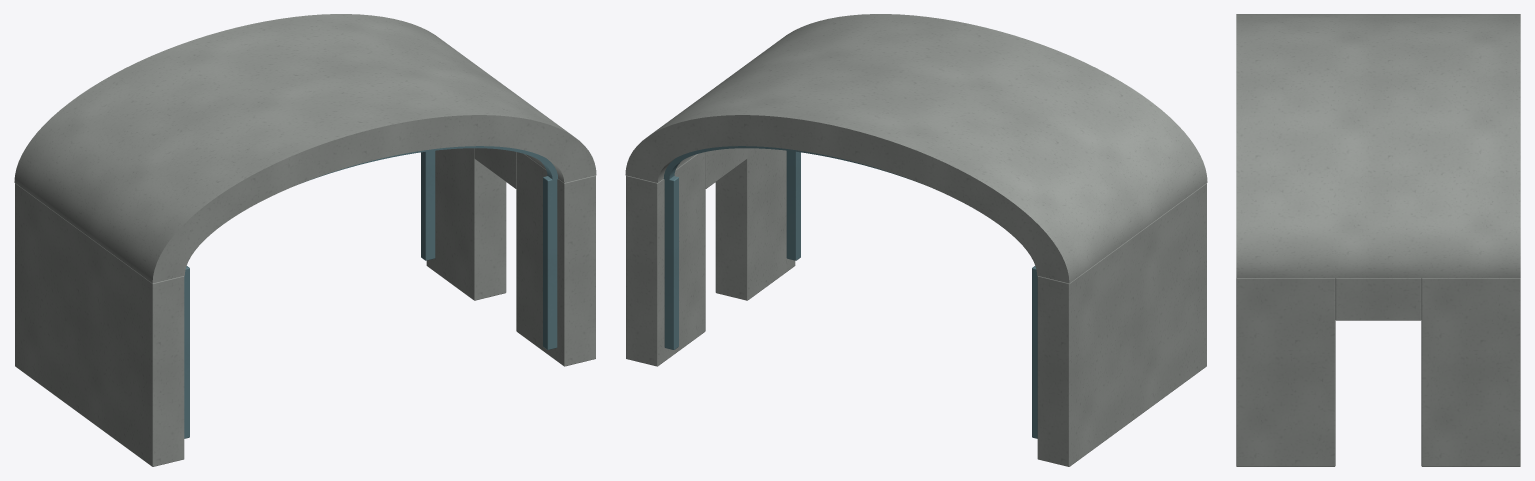
Rendered from gorgehold-survivor-gallery-and-operations-gallery-arch-5308c9cc__32849.glb.
3 views of the same model, side by side, from view 1: azimuth 30°, elevation 25°; view 2: azimuth 150°, elevation 25°; view 3: azimuth 270°, elevation 25° (orthographic). The views are drawn at different scales.
Visible parts, largest first — view 1: gallery-arch-structural-bay; view 2: gallery-arch-structural-bay; view 3: gallery-arch-structural-bay.
Boxes of the visible parts, x1,y1,x2,y2 form: gallery-arch-structural-bay: (14, 14, 596, 466); gallery-arch-structural-bay: (625, 14, 1207, 466); gallery-arch-structural-bay: (1236, 14, 1520, 466).
Size of the model in its own units: 7.98 by 4.89 by 4.3.
2 materials, 2 textured.
